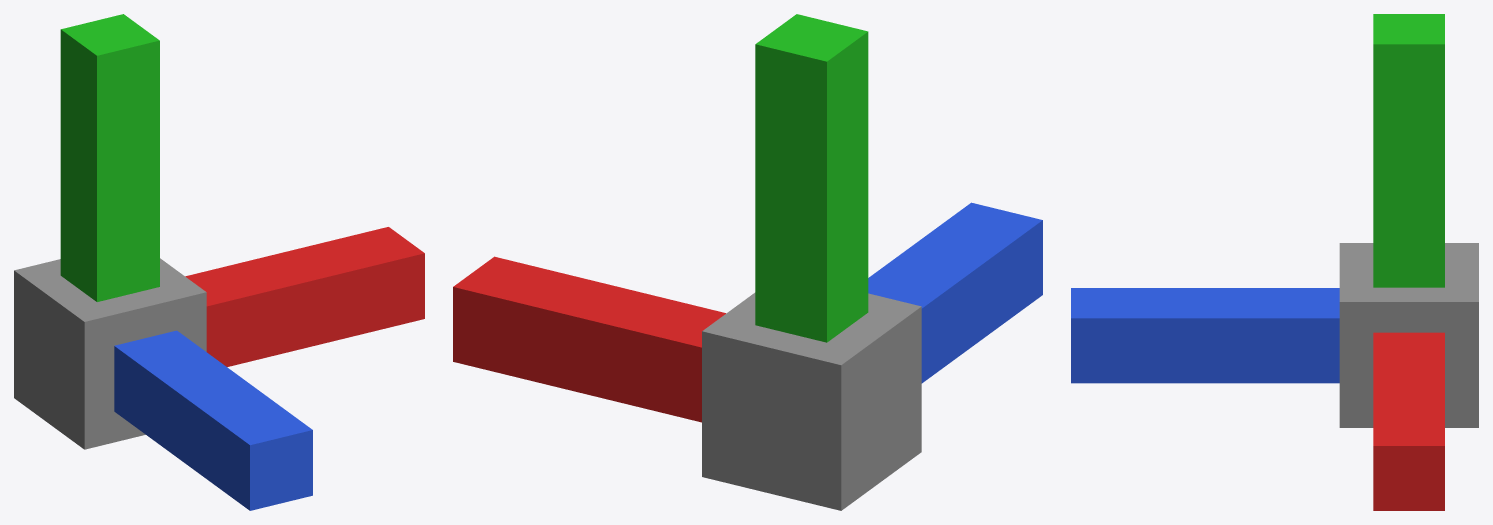
The model's file is m16_axis_zup.fbx.
3 views of the same model, side by side, from view 1: azimuth 30°, elevation 25°; view 2: azimuth 150°, elevation 25°; view 3: azimuth 270°, elevation 25° (orthographic). The views are drawn at different scales.
Visible parts, largest first — view 1: YArm, XArm, ZArm, Center; view 2: Center, YArm, XArm, ZArm; view 3: ZArm, YArm, Center, XArm.
Part boxes in pixels (x1=…): YArm: x1=60, y1=14, x2=159, y2=301; XArm: x1=185, y1=227, x2=424, y2=366; ZArm: x1=114, y1=330, x2=312, y2=510; Center: x1=14, y1=258, x2=206, y2=449; Center: x1=702, y1=292, x2=921, y2=510; YArm: x1=755, y1=14, x2=868, y2=342; XArm: x1=453, y1=256, x2=725, y2=422; ZArm: x1=868, y1=202, x2=1042, y2=383; ZArm: x1=1071, y1=288, x2=1339, y2=383; YArm: x1=1373, y1=14, x2=1444, y2=287; Center: x1=1339, y1=243, x2=1478, y2=427; XArm: x1=1373, y1=332, x2=1444, y2=510.
Bounding box in the file's own units: 1.02 × 1.02 × 1.02.
